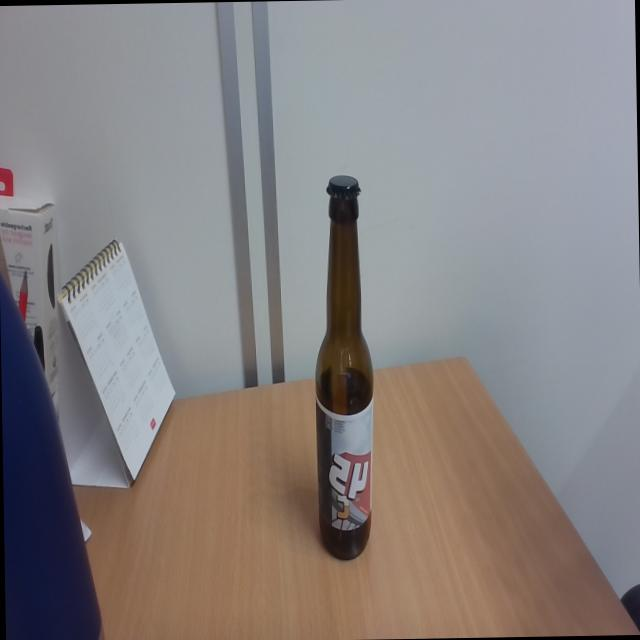Bottle: (309, 172, 376, 560)
Cap: (322, 172, 364, 204)
Label: (316, 405, 376, 531)
